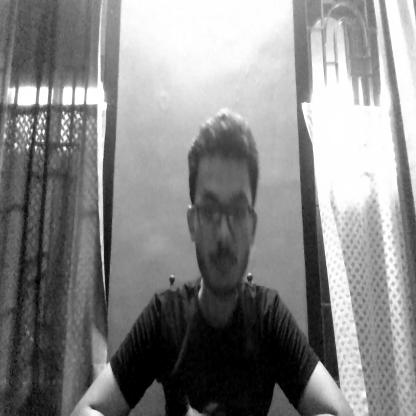Normal: (186, 114, 263, 295)
